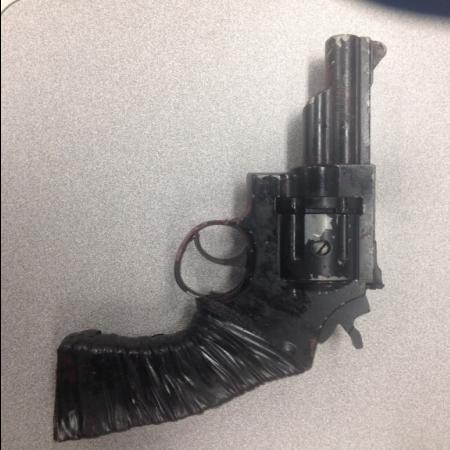Pistol: (51, 33, 387, 445)
